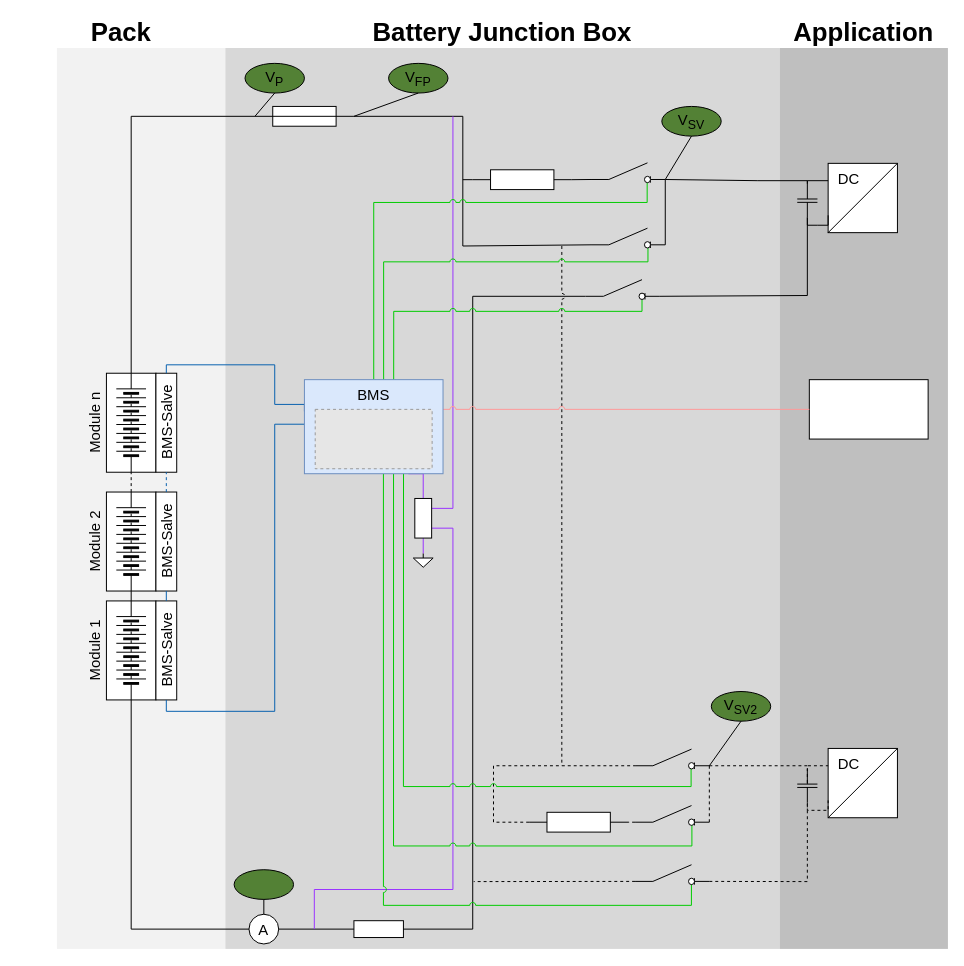
Image size: 964x966. Some labels were removed from this diagram. Grey dashed boxes stand in for pictures. The shapes that lost their labels are listed below. From the top down, each one's centre as x and y in pixels, then its label:
At (x=868, y=409): "Application Control Unit".
At (x=423, y=517): "IMD".
At (x=263, y=884): "I P".
At (x=378, y=929): "MSD".
